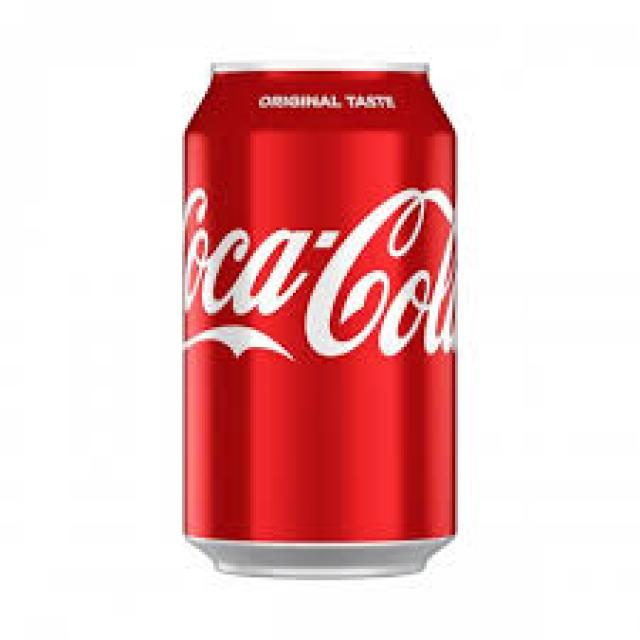aluminum_can: (185, 63, 458, 579)
